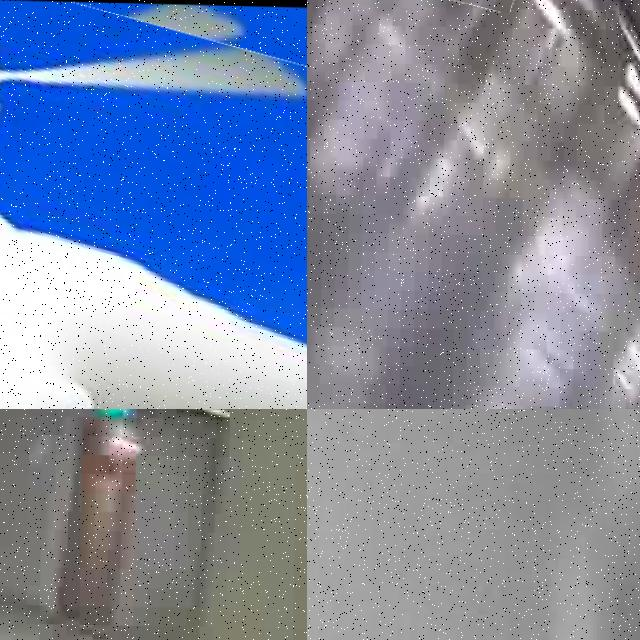drone: (0, 0, 307, 409)
